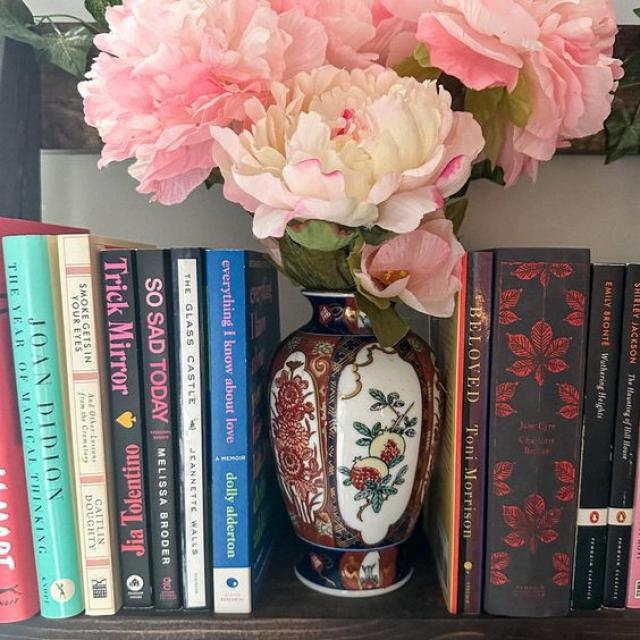book: (483, 251, 588, 616), (2, 235, 83, 617), (57, 235, 118, 614), (99, 246, 152, 606), (573, 264, 626, 610), (208, 250, 254, 612), (136, 251, 179, 607), (171, 249, 208, 607), (457, 250, 491, 614), (603, 266, 639, 607)
flowers: (78, 0, 622, 595)
